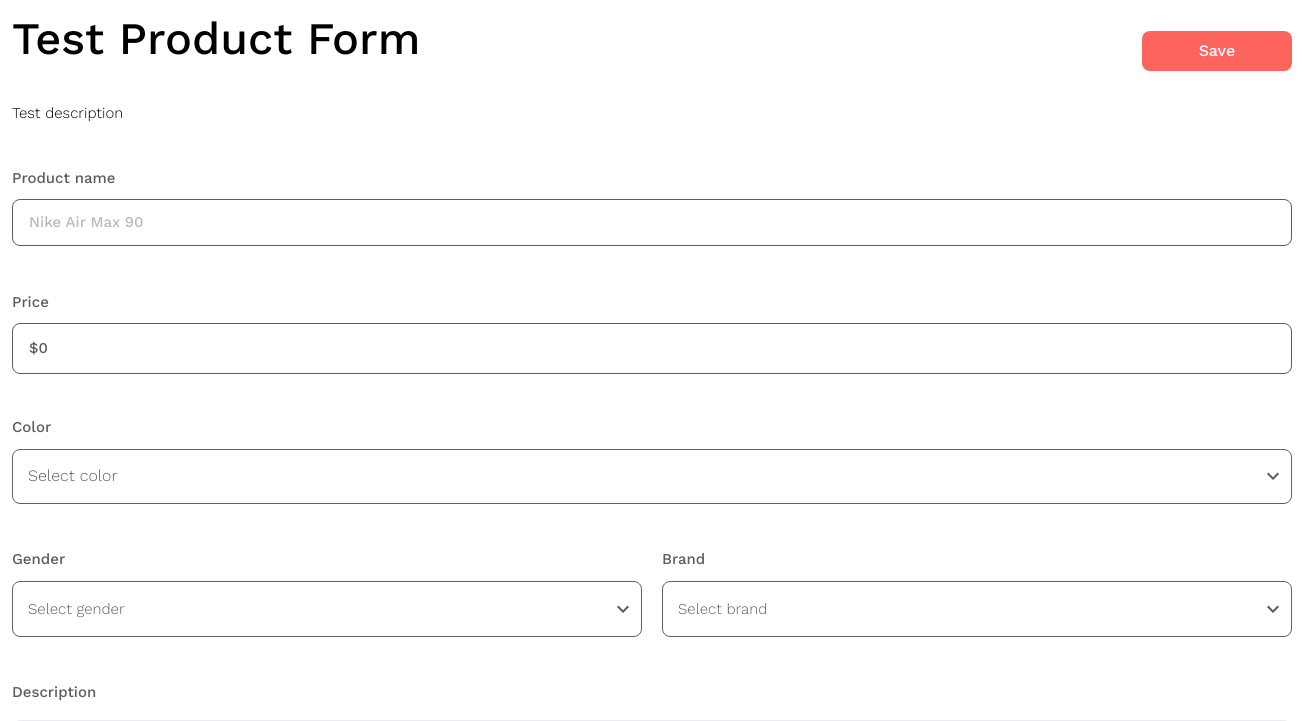
Test case: ProductForm › Interactions › should show LinearProgress when form is submitting
What coordinates should you click on to do the following:
click the button "Save"
I would click on:
 (1217, 51)
Its box is left=1142, top=31, right=1292, bottom=71.
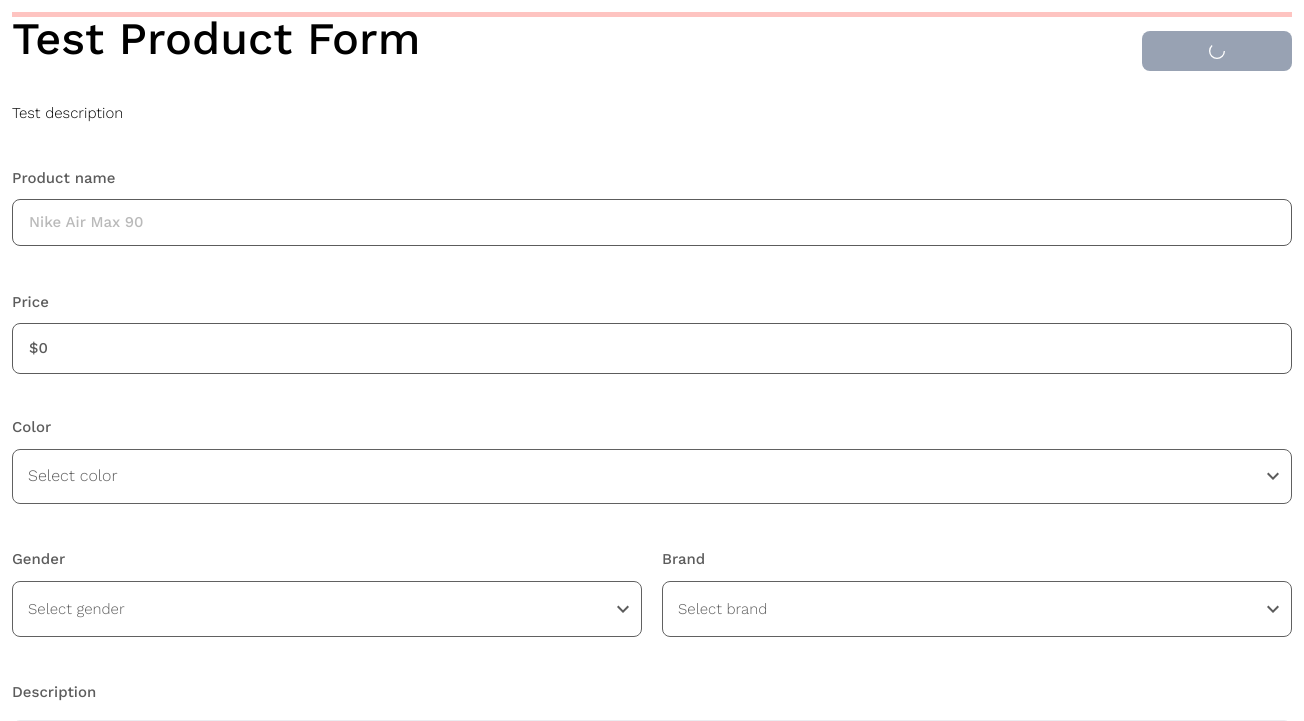
Expected: the 1st progress indicator is shown, left=12, top=12, right=1292, bottom=17
